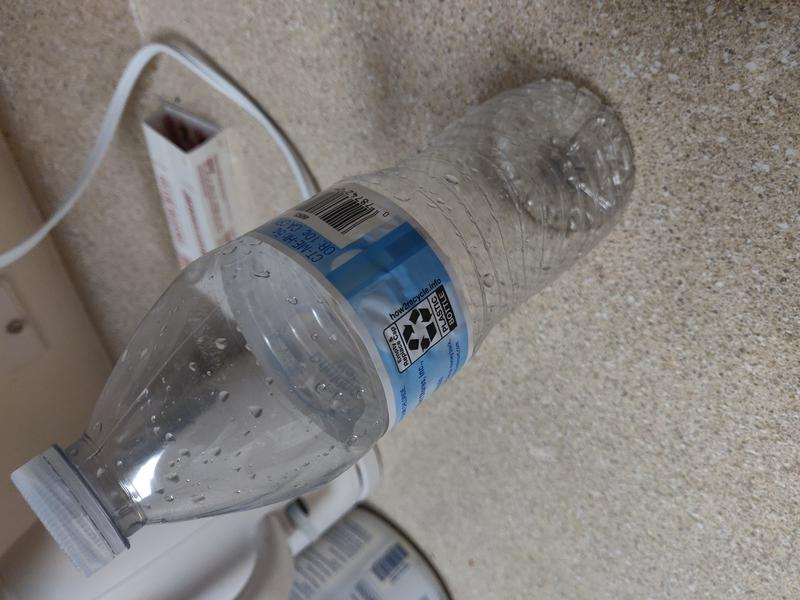bottle: (8, 76, 638, 579)
